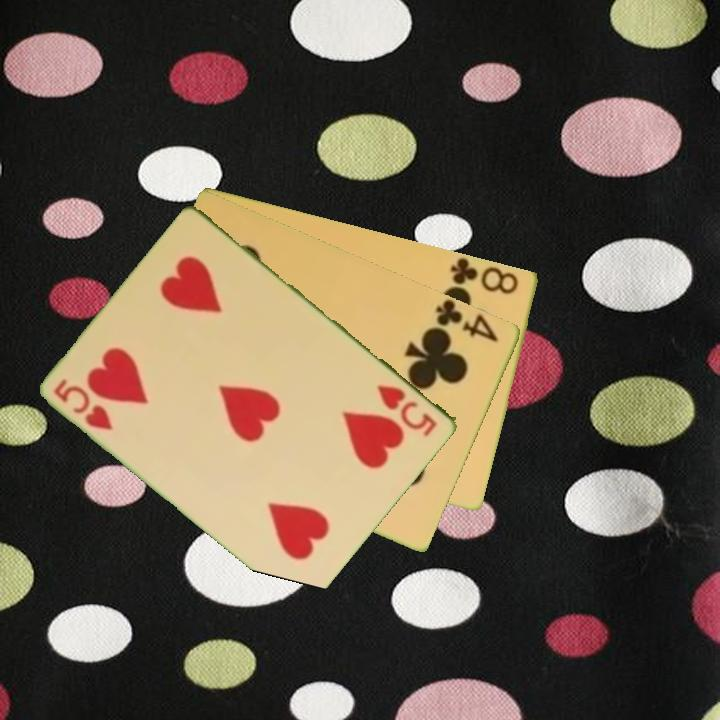4c: (433, 297, 502, 345)
5h: (50, 374, 117, 434), (373, 381, 441, 440)
8c: (447, 254, 522, 297)
